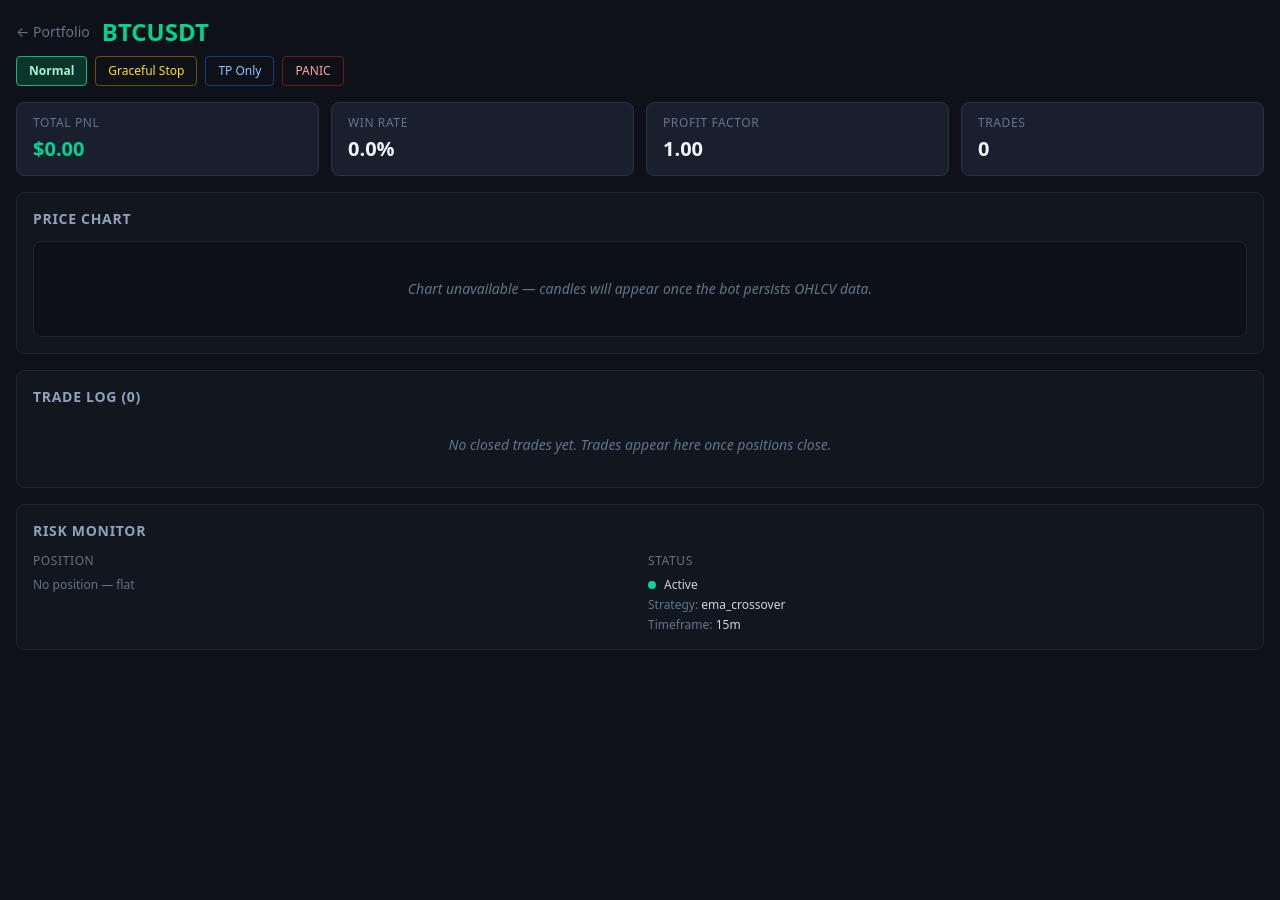
Scenario: BotDetailPage — Mode buttons (#1) › surfaces error message on API failure
Click the button with test id "mode-btn-GRACEFUL_STOP" at (146, 71), box [95,56,197,86]
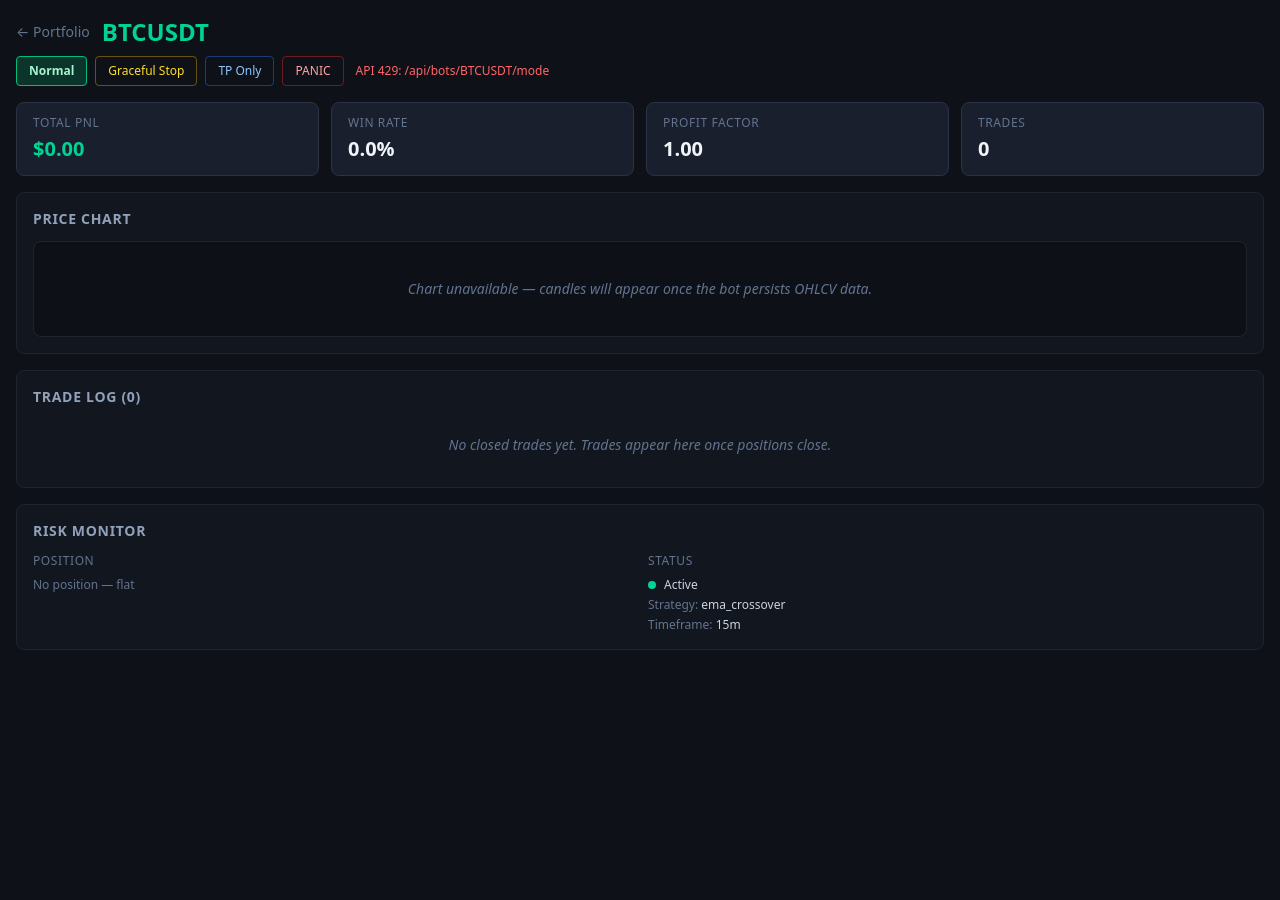
Expected: the text with test id "mode-error" reads "API 429: /api/bots/BTCUSDT/mode", [356,62,549,79]
